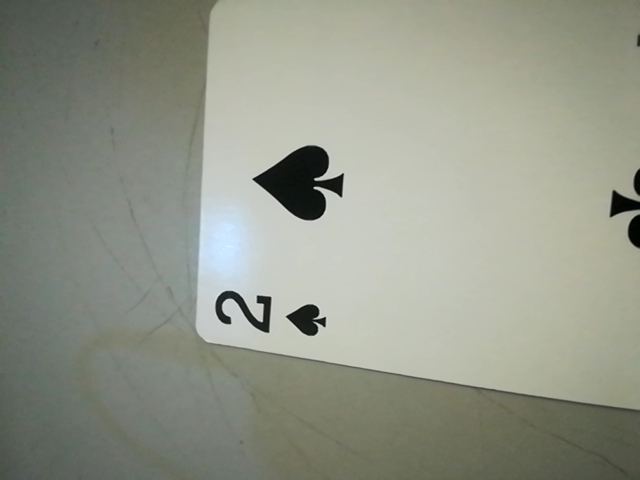ht 2: (196, 280, 343, 353)
